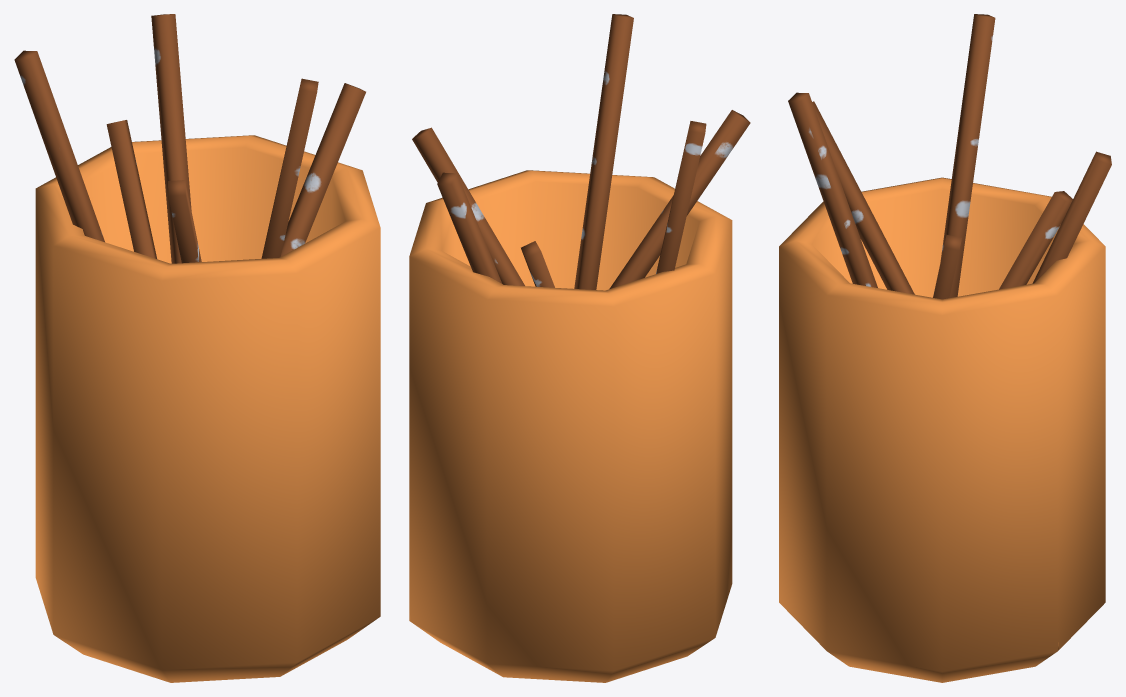
The model's file is SaltySticks.fbx.
3 renders of one model, left to right at view 1: azimuth 30°, elevation 25°; view 2: azimuth 150°, elevation 25°; view 3: azimuth 270°, elevation 25°, orthographic. The views are drawn at different scales.
Parts seen in each view (by area): view 1: Cube.017; view 2: Cube.017; view 3: Cube.017.
Boxes of the visible parts, <box> form: Cube.017: <box>14,14,380,682</box>; Cube.017: <box>409,14,750,682</box>; Cube.017: <box>779,14,1111,682</box>.
Size of the model in its own units: 24.28 by 42.78 by 23.26.
